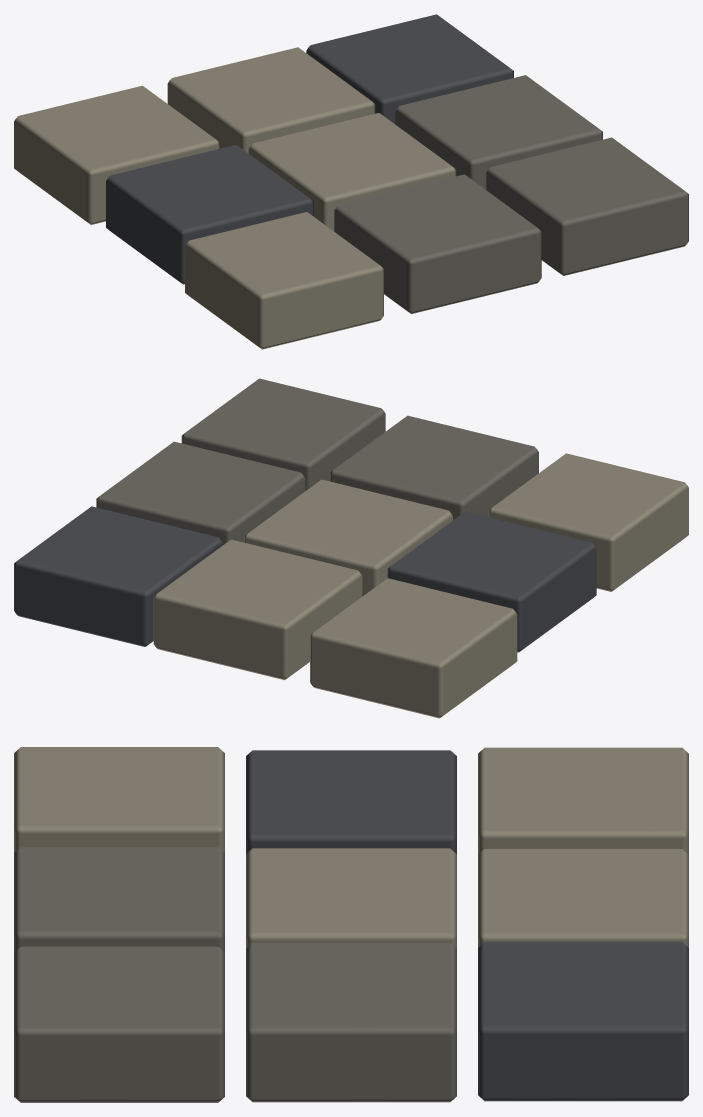
Rendered from village-cobble-b.69c91a93.glb.
3 views of the same model, one above another, from view 1: azimuth 30°, elevation 25°; view 2: azimuth 150°, elevation 25°; view 3: azimuth 270°, elevation 25° (orthographic). The views are drawn at different scales.
Visible parts, largest first — view 1: body; view 2: body; view 3: body.
Part boxes in pixels (x1,y1,x2,y2): body: [14, 14, 688, 349]; body: [14, 378, 688, 718]; body: [14, 747, 688, 1102].
Bounding box in the file's own units: 0.9705 × 0.126 × 0.969.
